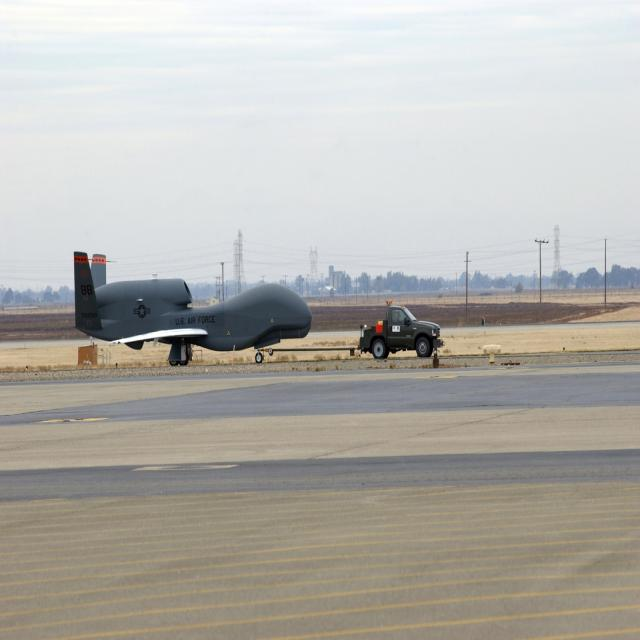MIL_Plane: (74, 251, 312, 366)
